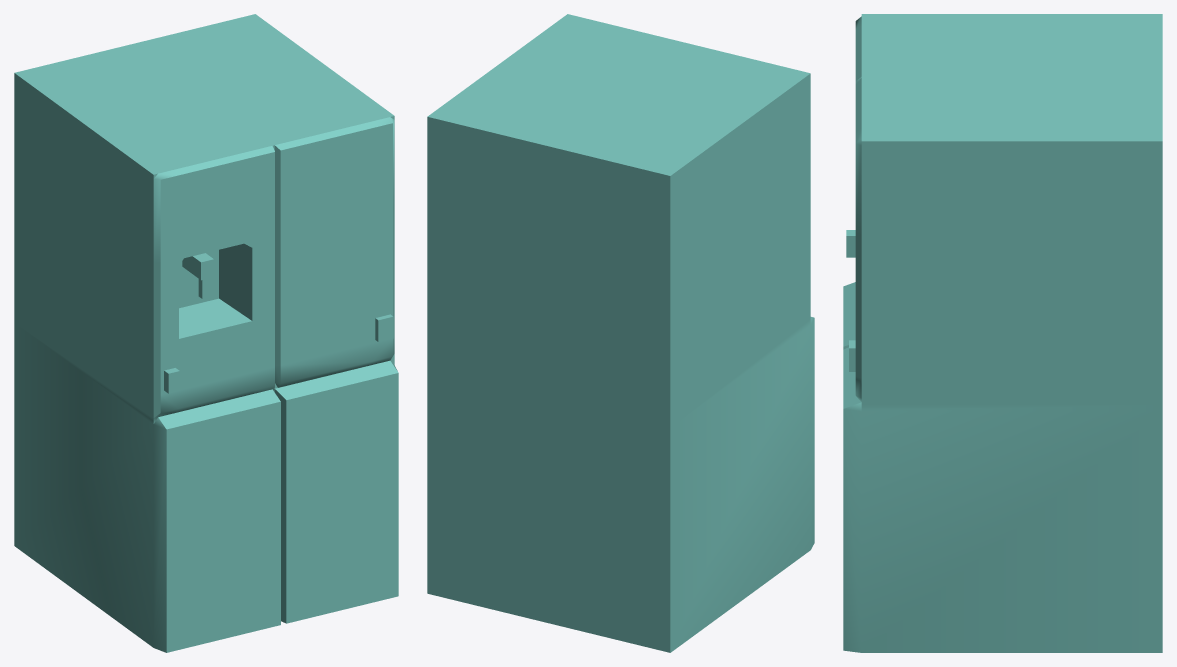
The model's file is fridge.fbx.
3 views of the same model, side by side, from view 1: azimuth 30°, elevation 25°; view 2: azimuth 150°, elevation 25°; view 3: azimuth 270°, elevation 25° (orthographic). The views are drawn at different scales.
Visible parts, largest first — view 1: Cube; view 2: Cube; view 3: Cube.
Boxes of the visible parts, left/top/right/bottom form: Cube: left=14, top=14, right=398, bottom=652; Cube: left=427, top=14, right=814, bottom=652; Cube: left=843, top=14, right=1162, bottom=652.
Size of the model in its own units: 200 by 375 by 212.
